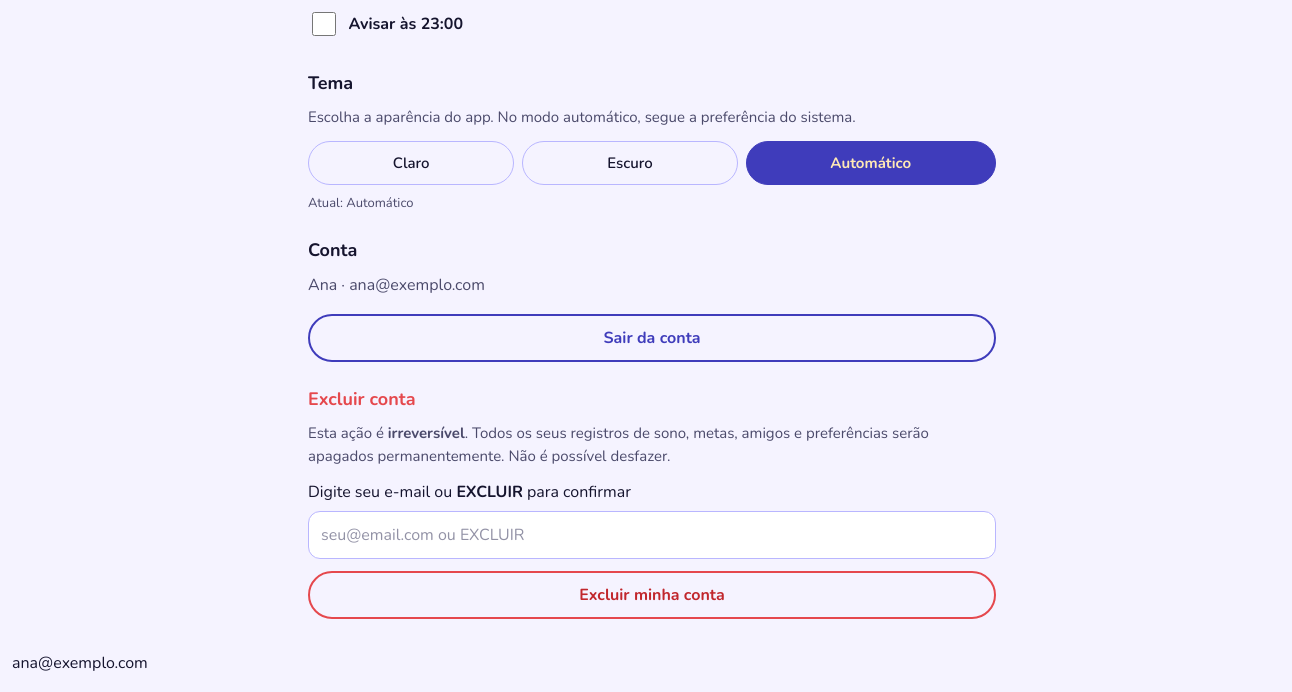
Scenario: tela de Configurações › sair da conta derruba o usuário do contexto, não só o token (#292)
(page scrolled)
Expected: the text "ana@exemplo.com" is shown, top-left (12, 652), bottom-right (148, 674)
Click the button "Sair da conta" at (652, 338), box top-left (308, 314), bottom-right (996, 362)
(page scrolled)
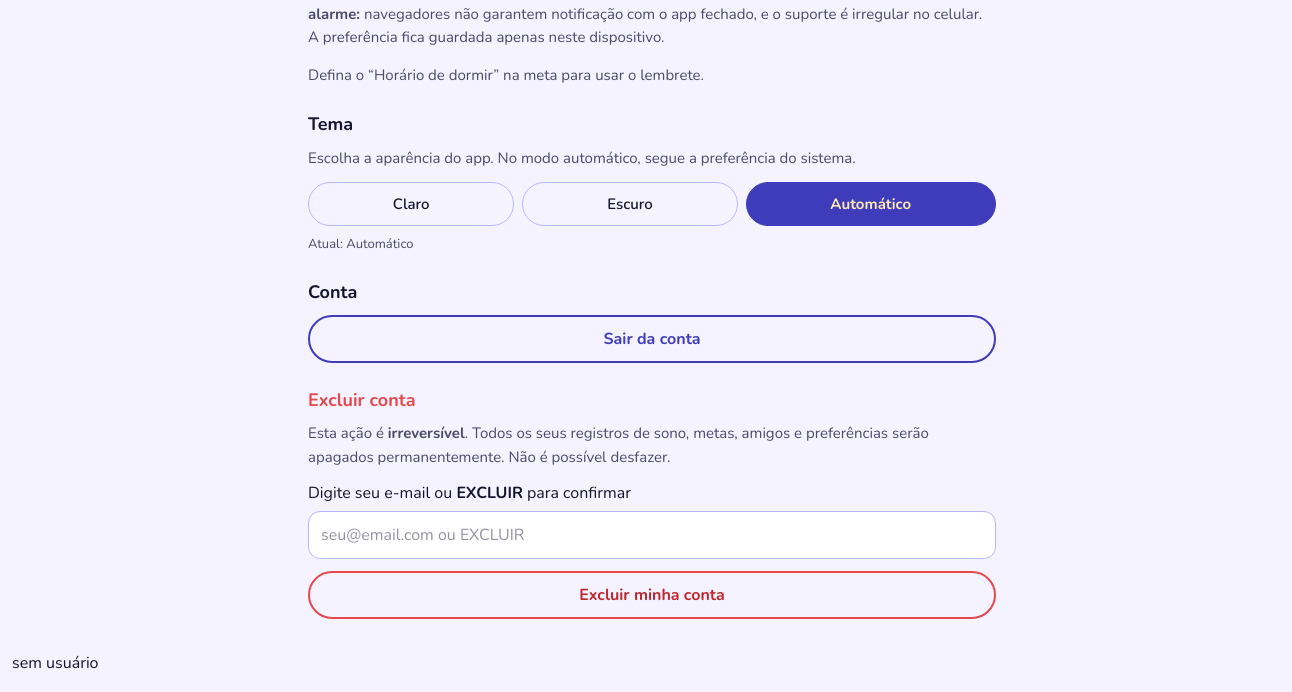
Expected: the text "sem usuário" is shown, top-left (12, 652), bottom-right (98, 674)
